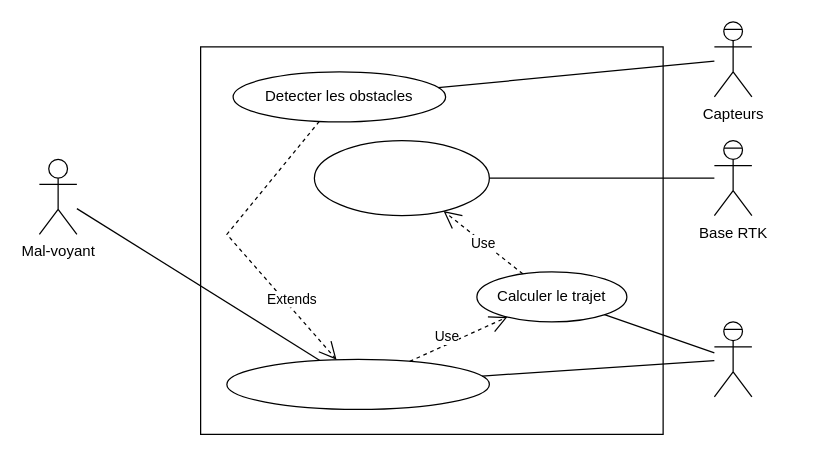
Image size: 820x456. Some labels were removed from this diagram. The box of each missing label's shape, as (x1, y1, x2, y2) in pixels:
Communiquer les instructions/deplacements: (226, 358, 489, 409)
Recuperer la position du mal-voyant: (313, 139, 489, 216)
Telephone/Systeme: (713, 321, 752, 397)
